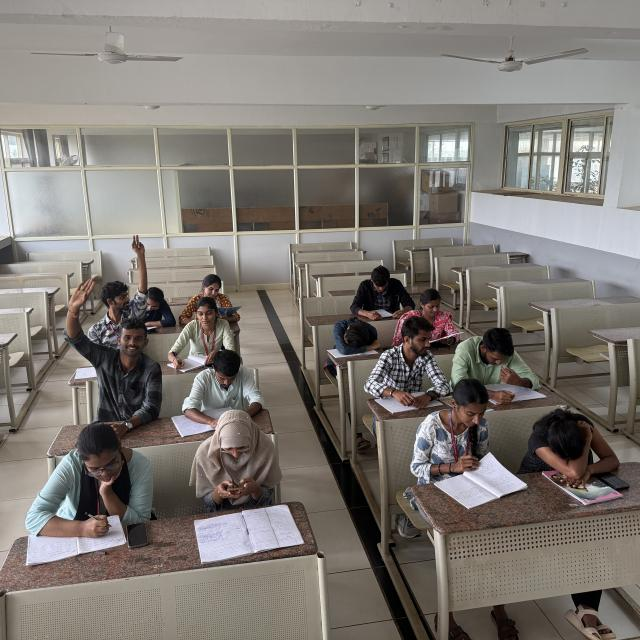Hand Rising: (59, 273, 162, 422), (97, 237, 149, 334)
Reading: (417, 380, 522, 503), (183, 345, 272, 423), (455, 326, 541, 400), (350, 265, 416, 322), (405, 290, 465, 352), (182, 272, 247, 324)
Sleeping: (523, 403, 621, 477), (330, 313, 386, 354)
Using Phone: (187, 415, 282, 514)
Writing: (29, 418, 154, 541), (369, 316, 448, 406), (164, 296, 232, 370)
